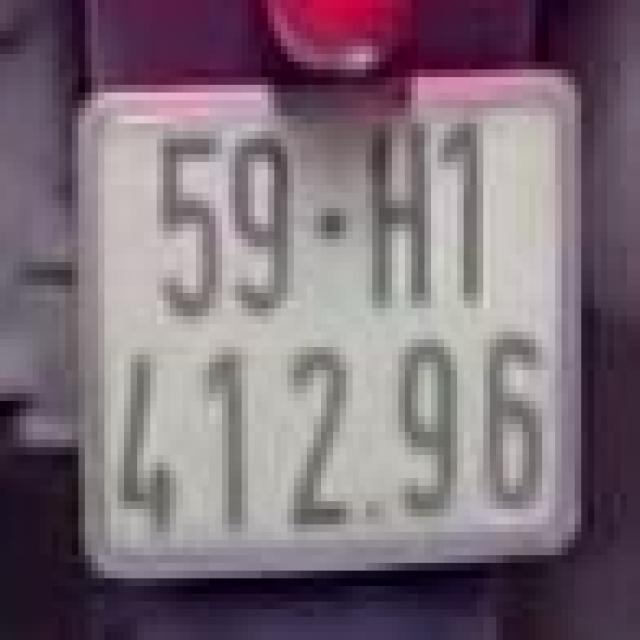1: (196, 343, 268, 536), (431, 112, 496, 320)
2: (277, 335, 356, 536)
4: (104, 343, 183, 544)
5: (154, 120, 226, 328)
6: (477, 316, 555, 517)
9: (222, 123, 300, 324), (388, 336, 461, 528)
H: (352, 104, 438, 320)
